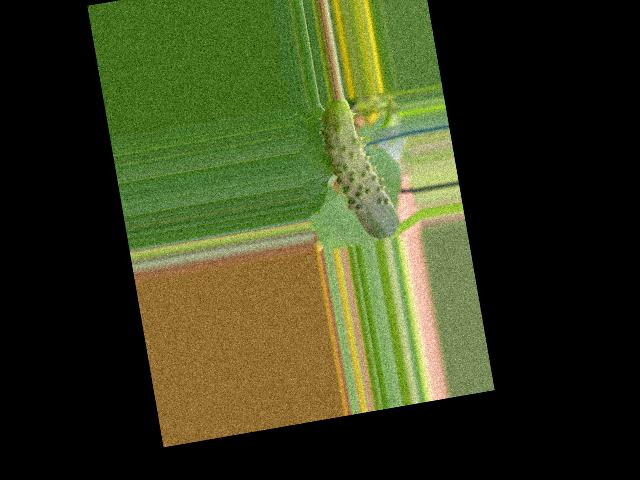cucumber: (316, 93, 401, 246)
